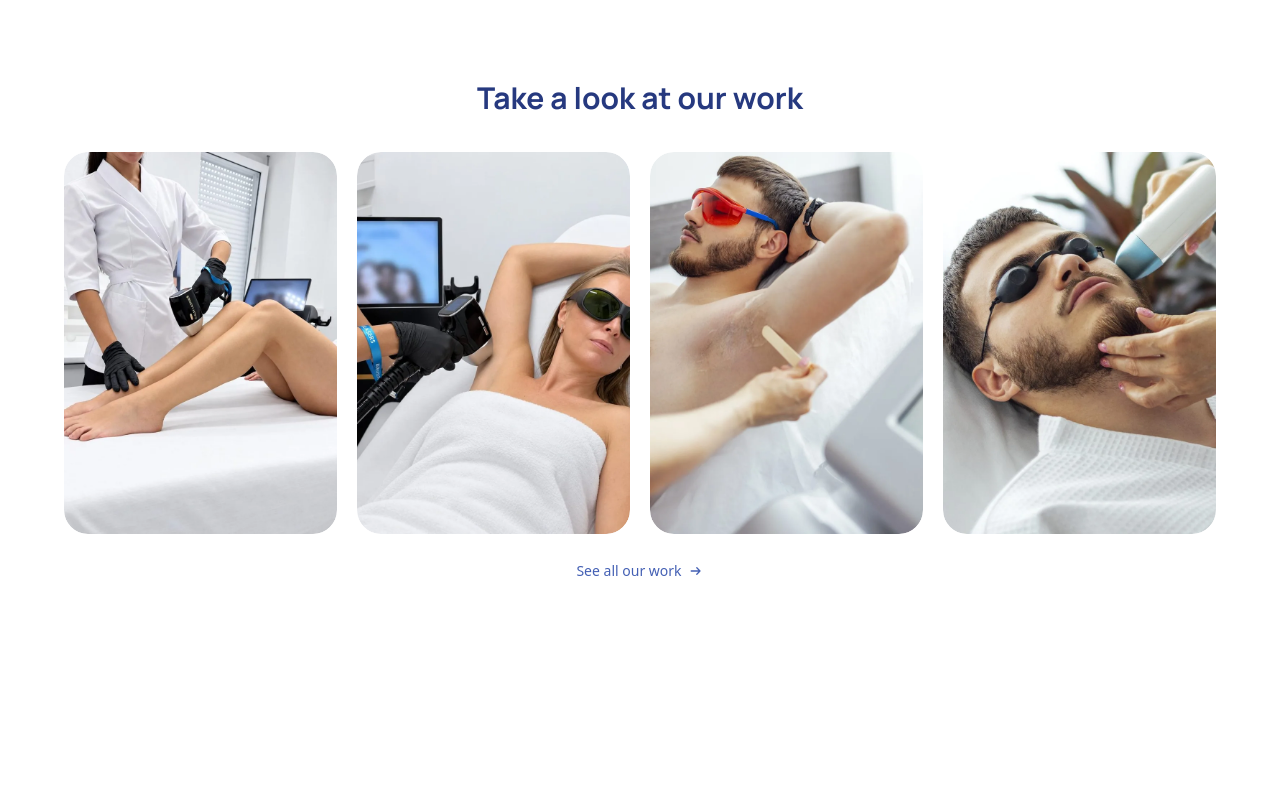
Test: Works gallery lightbox › closes on Escape, on the close button and on a backdrop click
Step 1. Click the button named "Open image: Laser hair removal on the legs on the treatment" → (200, 343), box [64,152,337,534]
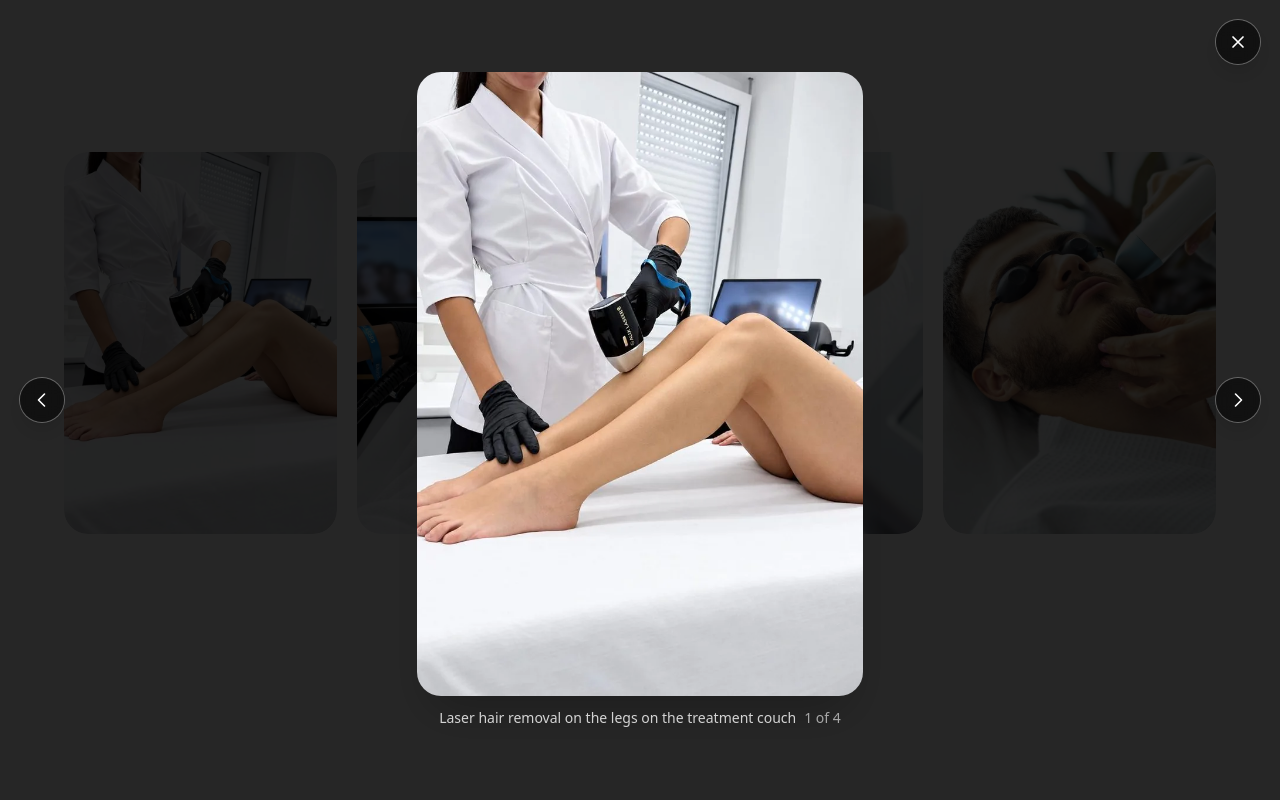
Step 2. Press Escape
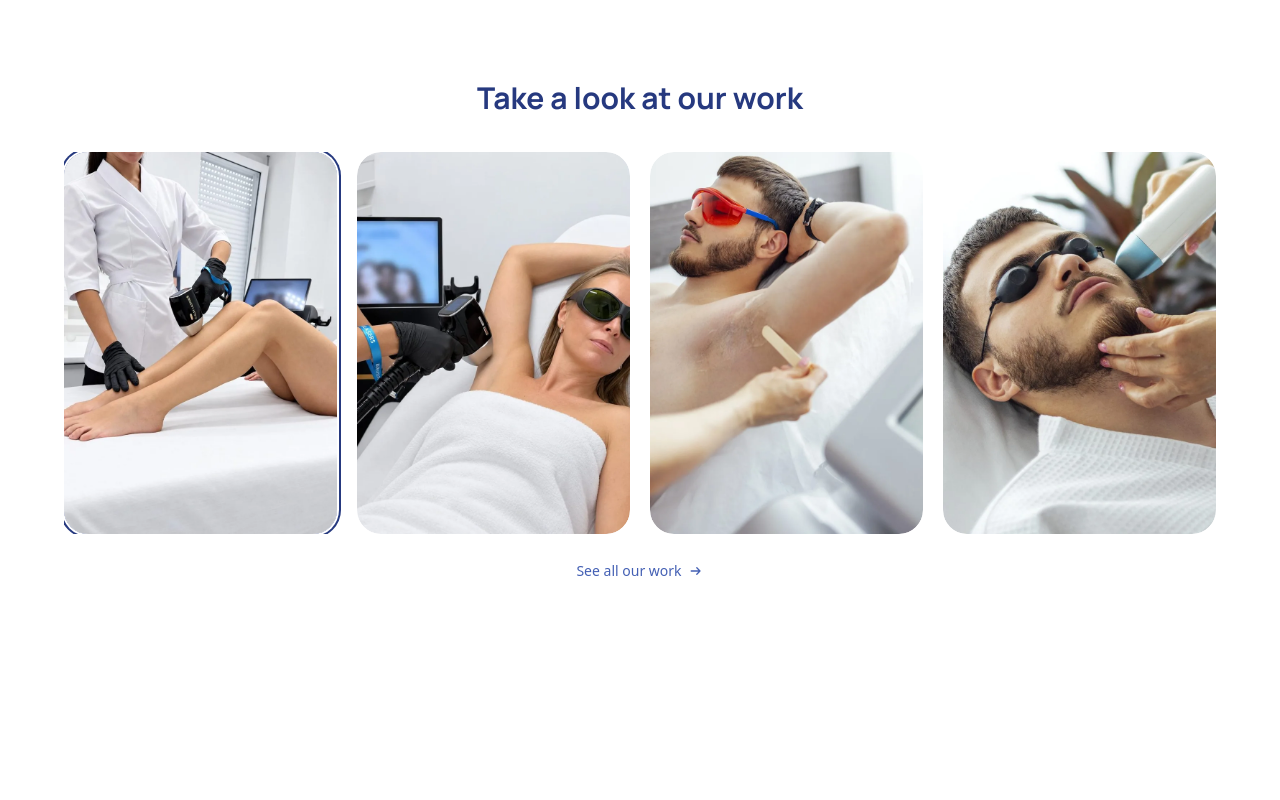
Check: the dialog with test id "lightbox" is gone
Step 3. Click the button named "Open image: Laser hair removal on the legs on the treatment" → (200, 343), box [64,152,337,534]
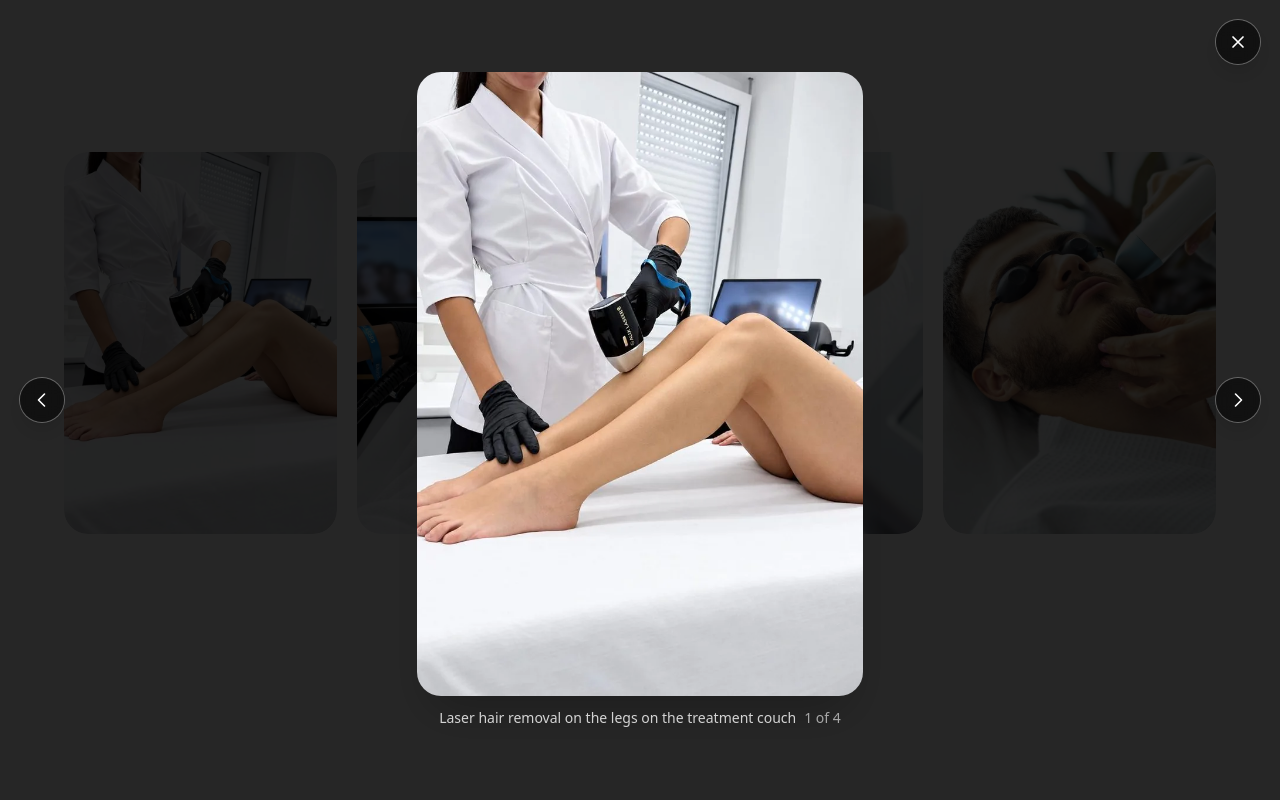
Step 4. Click the button named "Close image viewer" → (1238, 42), box [1216,20,1260,64]
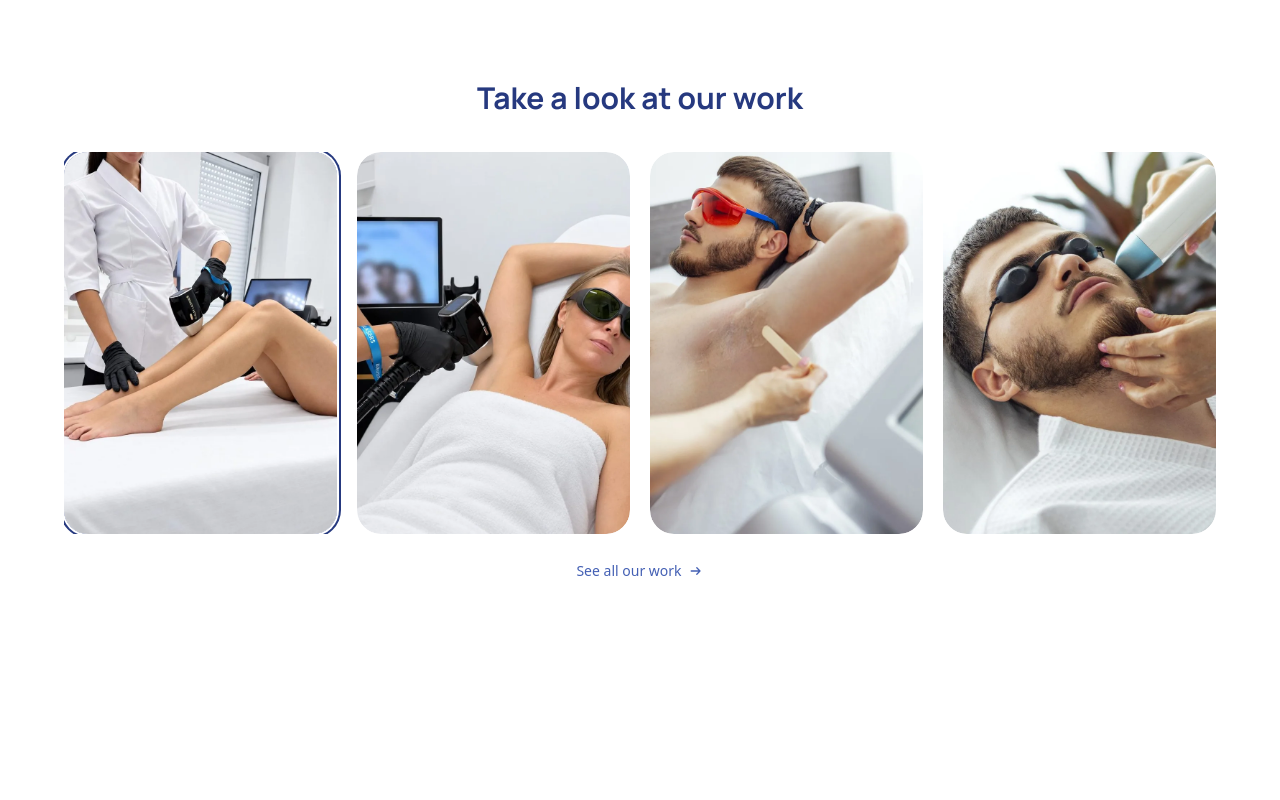
Check: the dialog with test id "lightbox" is gone
Step 5. Click the button named "Open image: Laser hair removal on the legs on the treatment" → (200, 343), box [64,152,337,534]
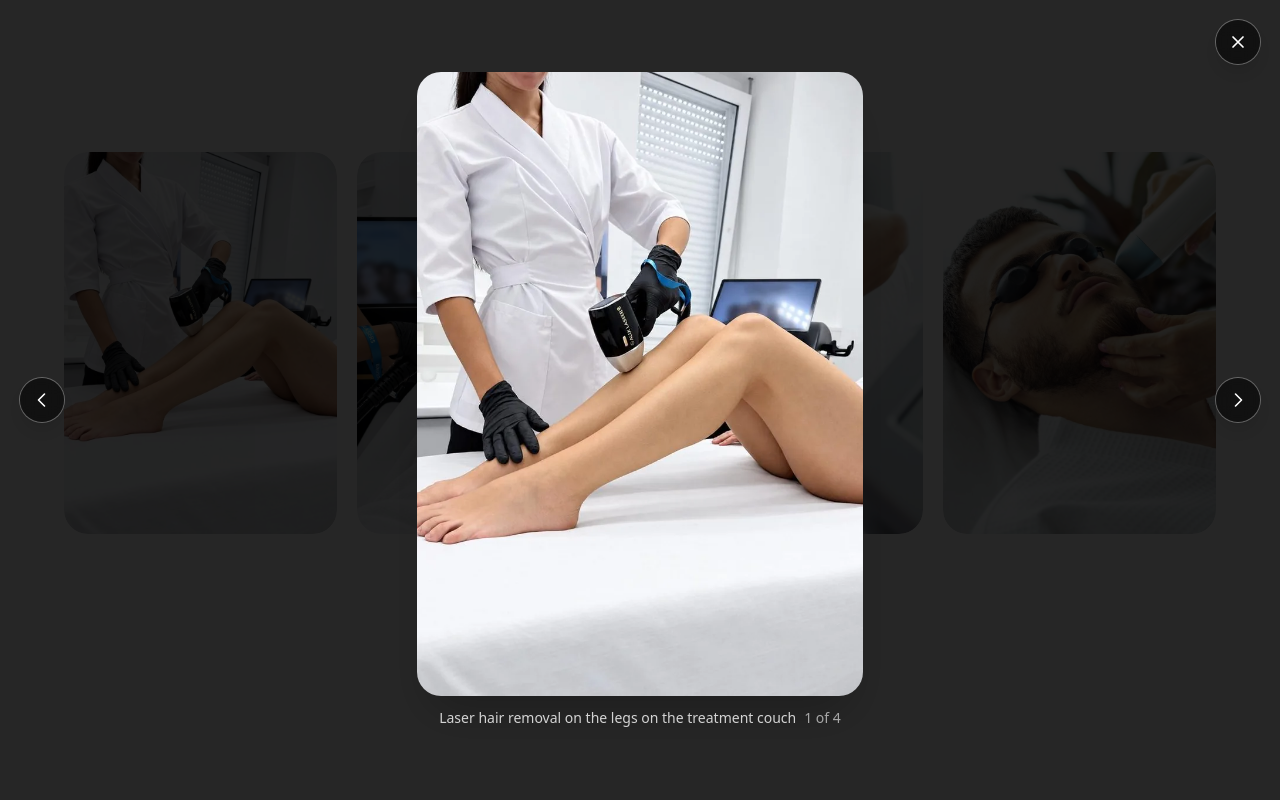
Step 6. Click the dialog with test id "lightbox" → (640, 400), box [0,0,1279,799]
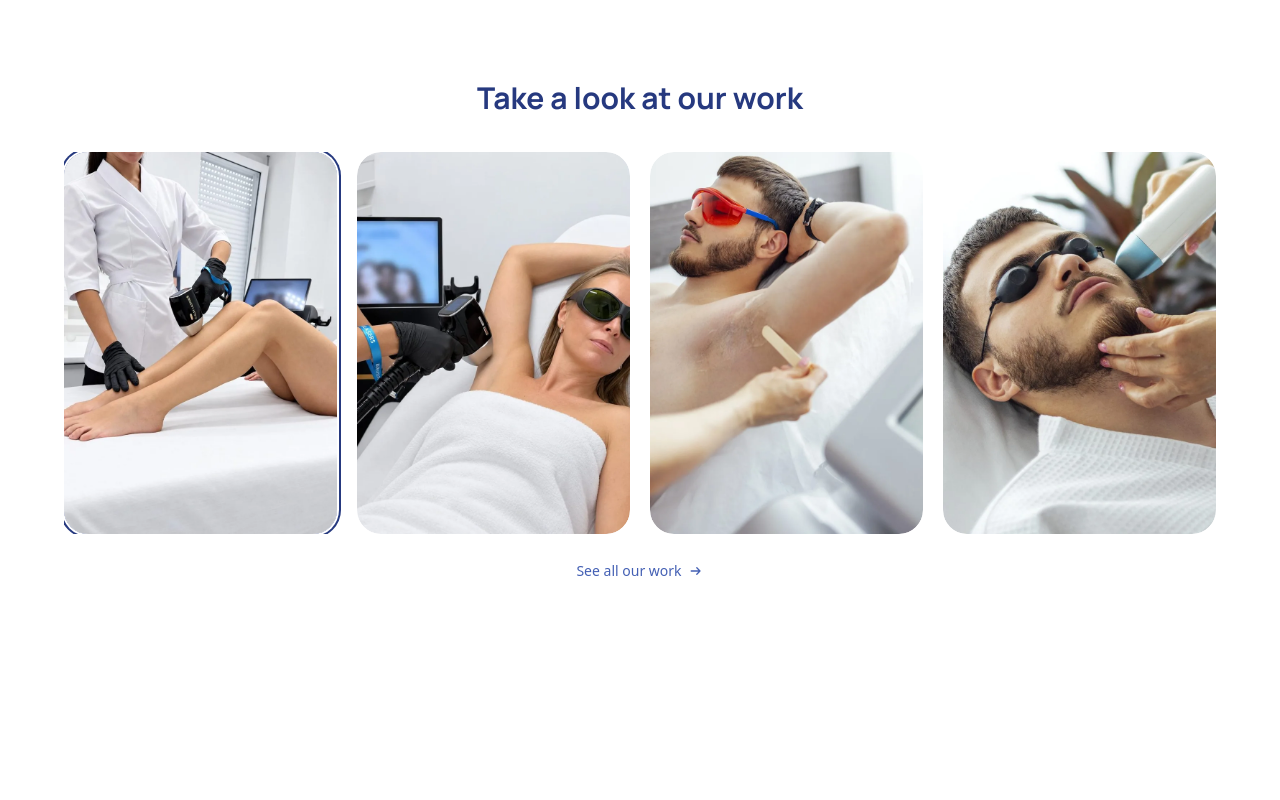
Check: the dialog with test id "lightbox" is gone
